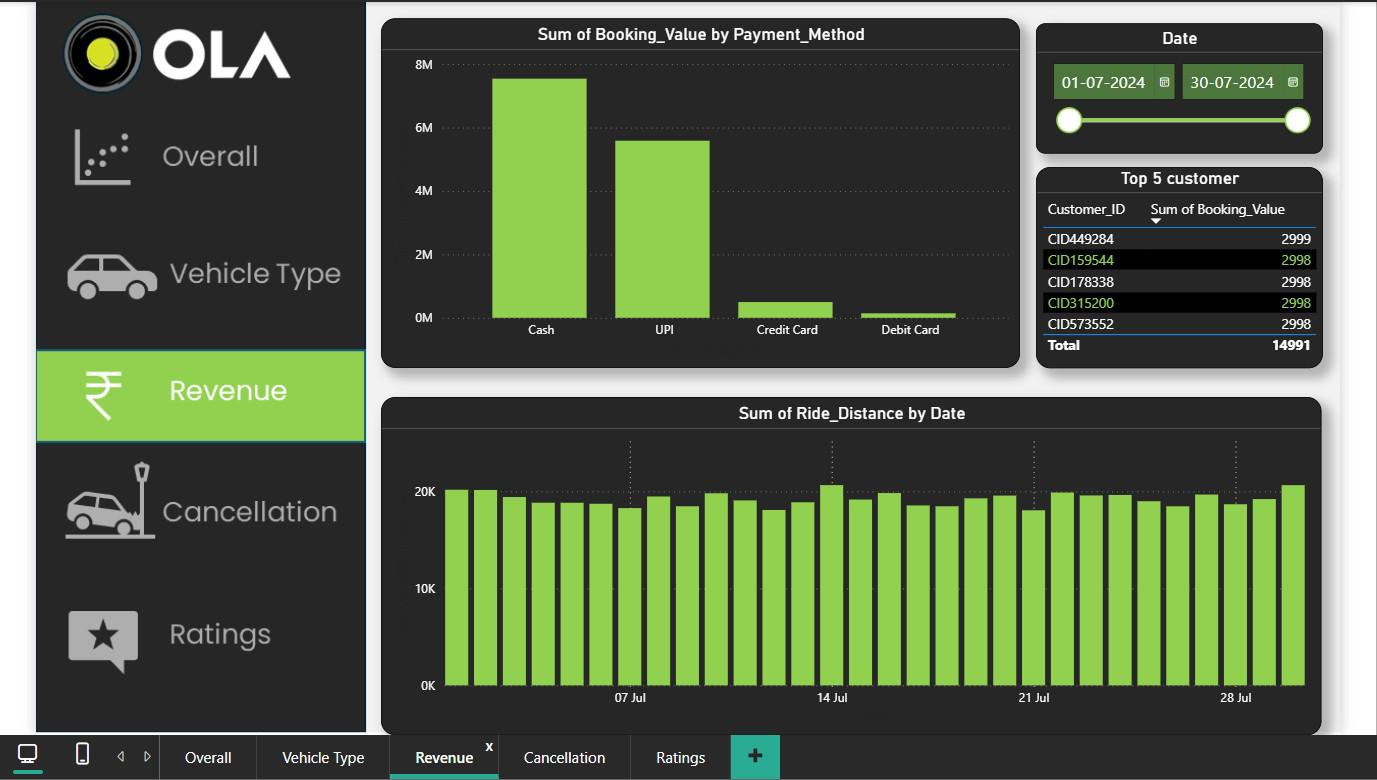

The dashboard page shown, as its layout file describes it:
{"tool":"powerbi","page":{"name":"Revenue","canvas":[1280,720],"ordinal":2},"visuals":[{"type":"actionButton","box":[0,580.4,322.7,92],"z":0},{"type":"actionButton","box":[0,341.1,322.7,94.5],"z":1000},{"type":"actionButton","box":[0,224.5,322.7,94.5],"z":2000},{"type":"actionButton","box":[0,99.4,322.7,96.9],"z":3000},{"type":"actionButton","box":[0,450.3,322.7,92],"z":4000},{"type":"columnChart","fields":{"Category":["July.Payment_Method"],"Y":["Sum(July.Booking_Value)"]},"box":[338.9,16.5,627.1,343.1],"z":5000},{"type":"columnChart","fields":{"Category":["July.Date"],"Y":["Sum(July.Ride_Distance)"]},"box":[338.9,388.3,923.5,332.1],"z":6000},{"type":"slicer","title":"Date","fields":{"Values":["July.Date"]},"box":[981.1,20.6,281.3,127.6],"z":7000},{"type":"tableEx","title":"Top 5 customer","fields":{"Values":["July.Customer_ID","Sum(July.Booking_Value)"]},"box":[981.1,161.9,281.3,197.6],"z":8000}]}

Visuals, with their boxes in screenshot pixels (x1, y1, x2, y2):
actionButton: x1=29, y1=590, x2=359, y2=684
actionButton: x1=29, y1=345, x2=359, y2=442
actionButton: x1=29, y1=226, x2=359, y2=323
actionButton: x1=29, y1=98, x2=359, y2=197
actionButton: x1=29, y1=457, x2=359, y2=551
columnChart - July.Payment_Method x Sum(July.Booking_Value): x1=375, y1=13, x2=1017, y2=364
columnChart - July.Date x Sum(July.Ride_Distance): x1=375, y1=394, x2=1321, y2=734
"Date" slicer: x1=1033, y1=17, x2=1321, y2=148
"Top 5 customer" tableEx: x1=1033, y1=162, x2=1321, y2=364
